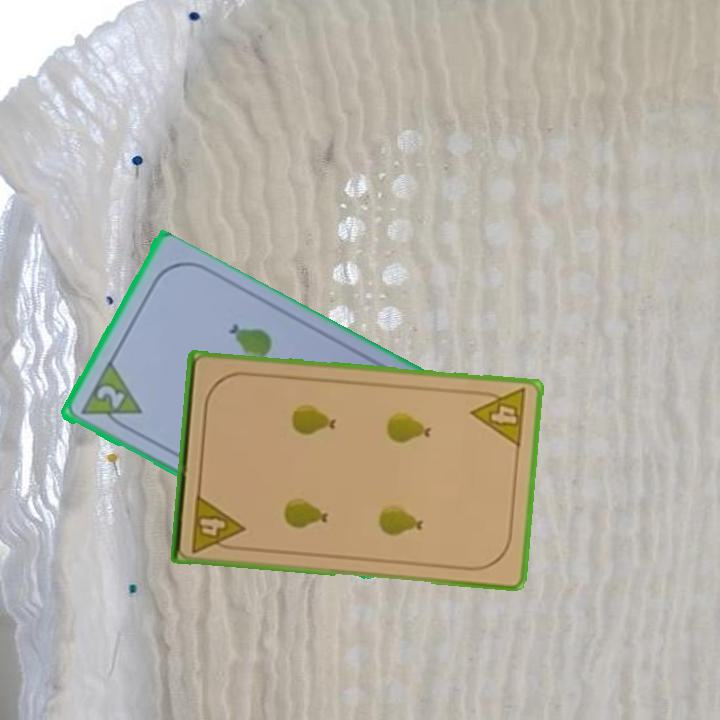2p: (76, 359, 144, 435)
4p: (468, 385, 530, 450), (187, 490, 247, 555)
